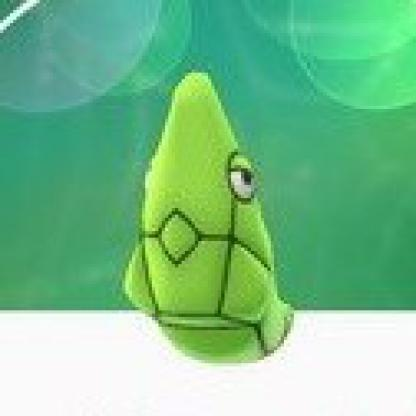Metapod: (109, 59, 302, 371)
